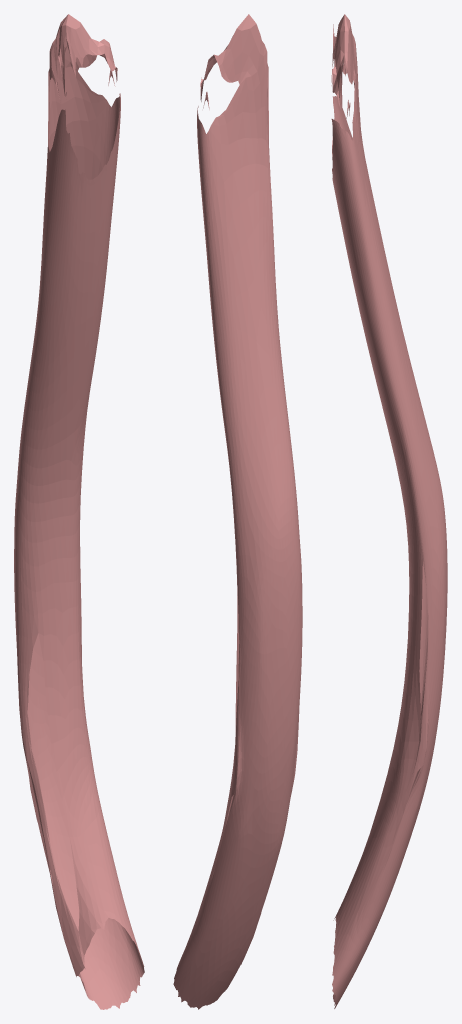
Rendered from esofago_interno.glb.
3 views of the same model, side by side, from view 1: azimuth 30°, elevation 25°; view 2: azimuth 210°, elevation 25°; view 3: azimuth 270°, elevation 25° (orthographic). The views are drawn at different scales.
Visible parts, largest first — view 1: esophagus; view 2: esophagus; view 3: esophagus.
Part boxes in pixels (x1,y1,x2,y2): esophagus: (14, 14, 144, 1009); esophagus: (173, 14, 302, 1009); esophagus: (331, 14, 447, 1008).
Size of the model in its own units: 23.95 by 265 by 28.63.
